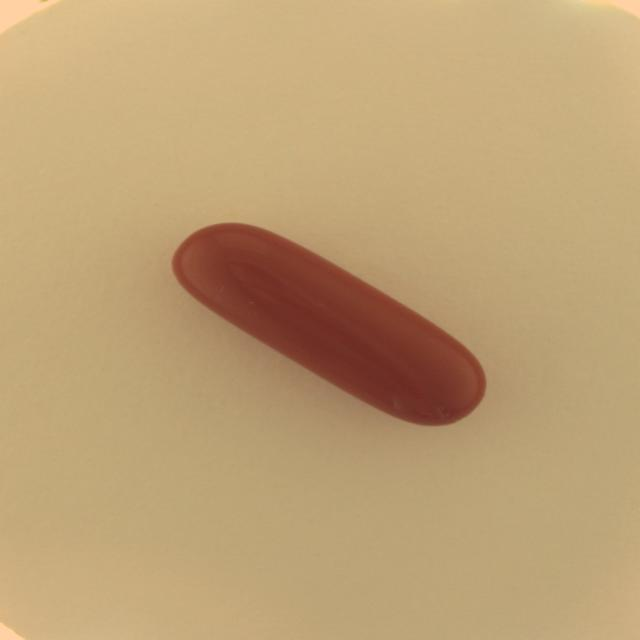Oval: (165, 215, 495, 433)
